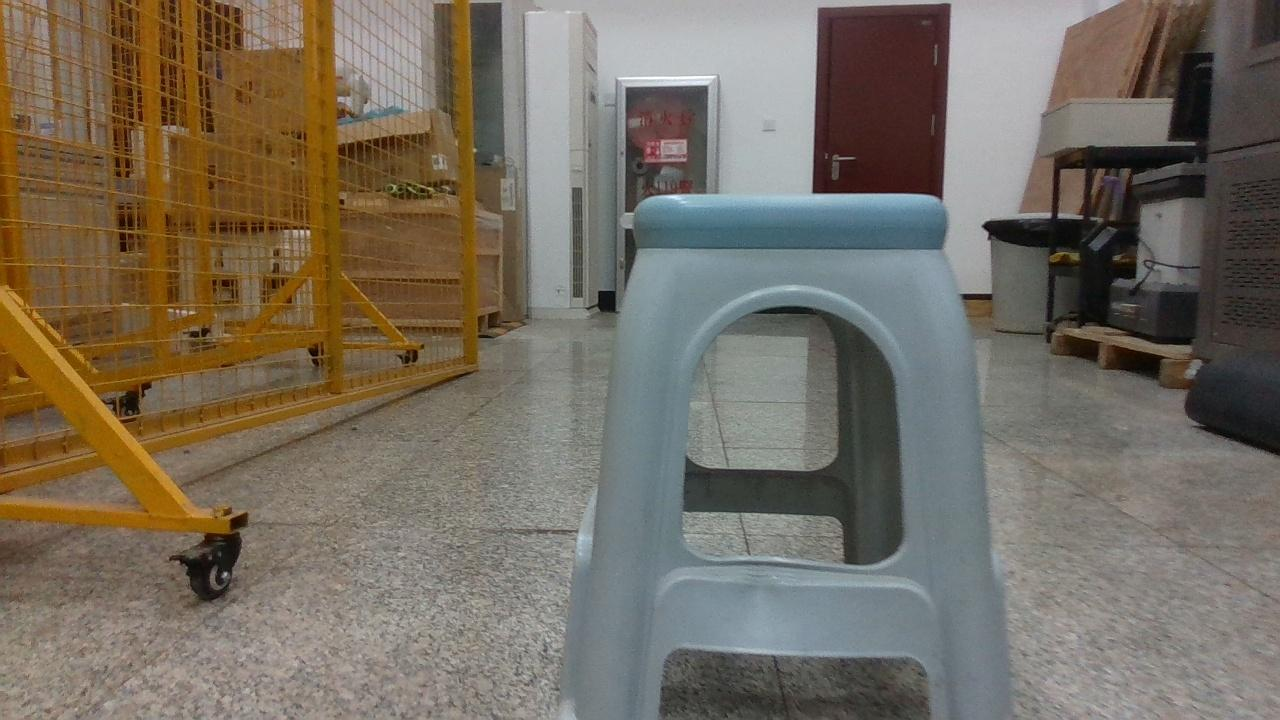stool: (560, 195, 1012, 718)
